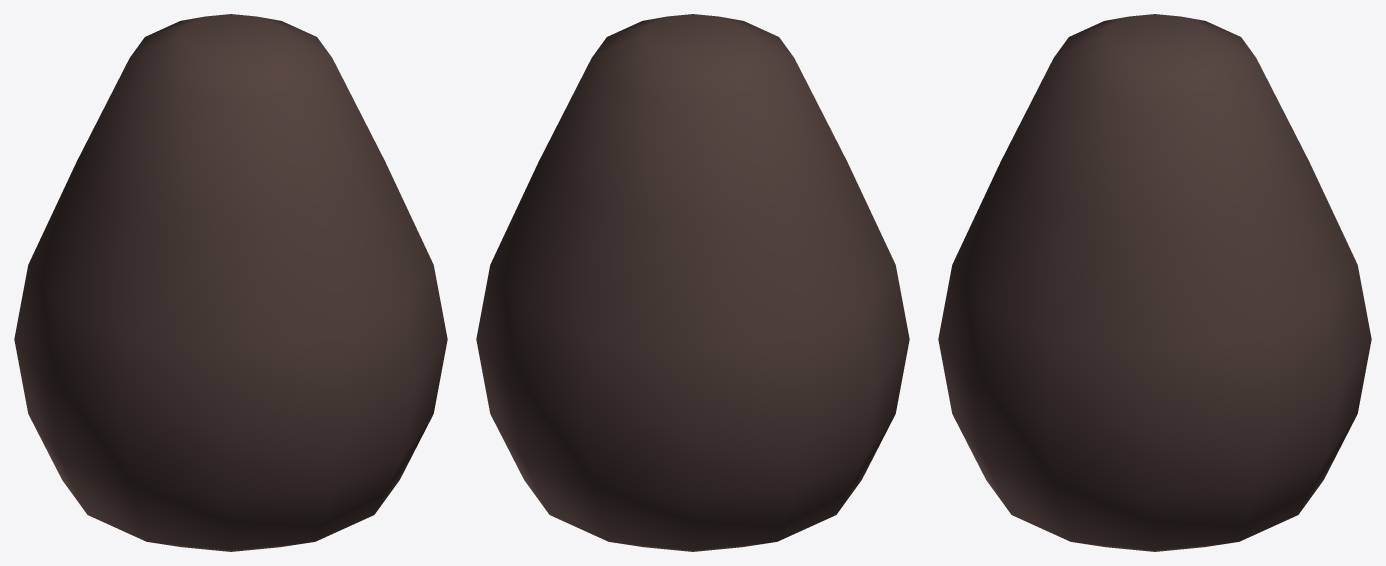
The model's file is seed.fbx.
The picture shows the model from 3 angles, left to right: view 1: azimuth 30°, elevation 25°; view 2: azimuth 150°, elevation 25°; view 3: azimuth 270°, elevation 25°; orthographic projection.
Visible parts, largest first — view 1: seed; view 2: seed; view 3: seed.
Boxes of the visible parts, x1,y1,x2,y2 form: seed: (14,14,447,551); seed: (476,14,909,551); seed: (938,14,1371,551).
Size of the model in its own units: 18.18 by 22.44 by 18.54.
